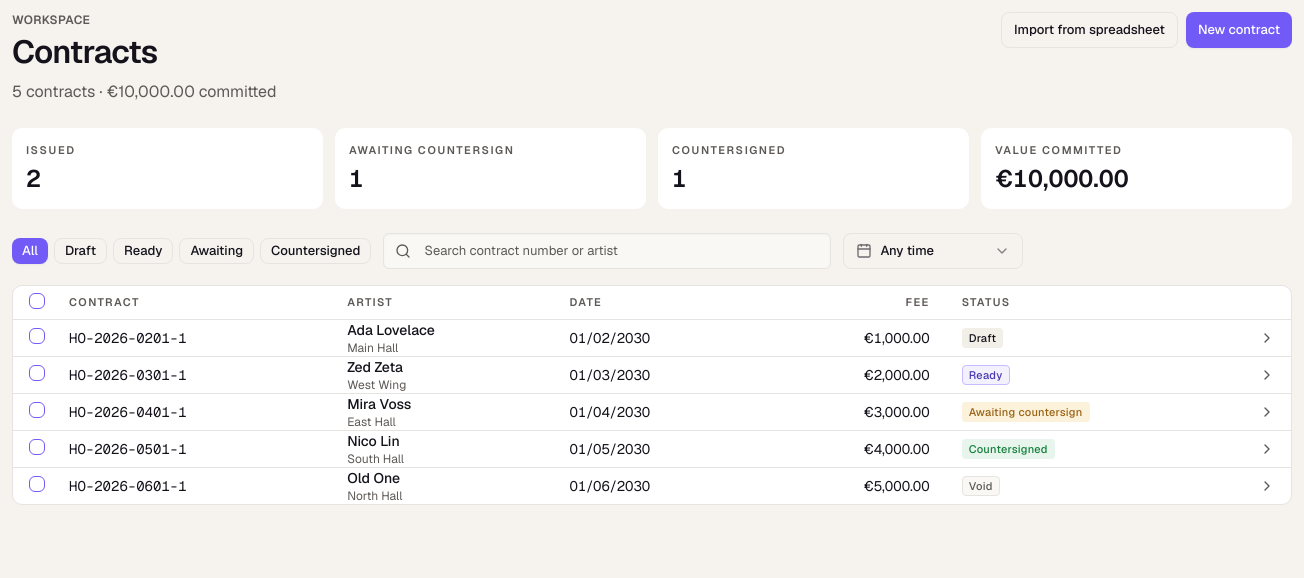
HireOrdersPage › sends only the still-visible, still-issuable ids when a filter change hides part of a prior selection
The width and height of the screenshot is (1304, 578).
Later steps or results of the test are not shown.
Expected: the text "HO-2026-0201-1" is shown, [69,329,187,347]
Click the checkbox named "select contract ho-2026-0201-1". click: (37, 336)
box: [29,328,45,344]
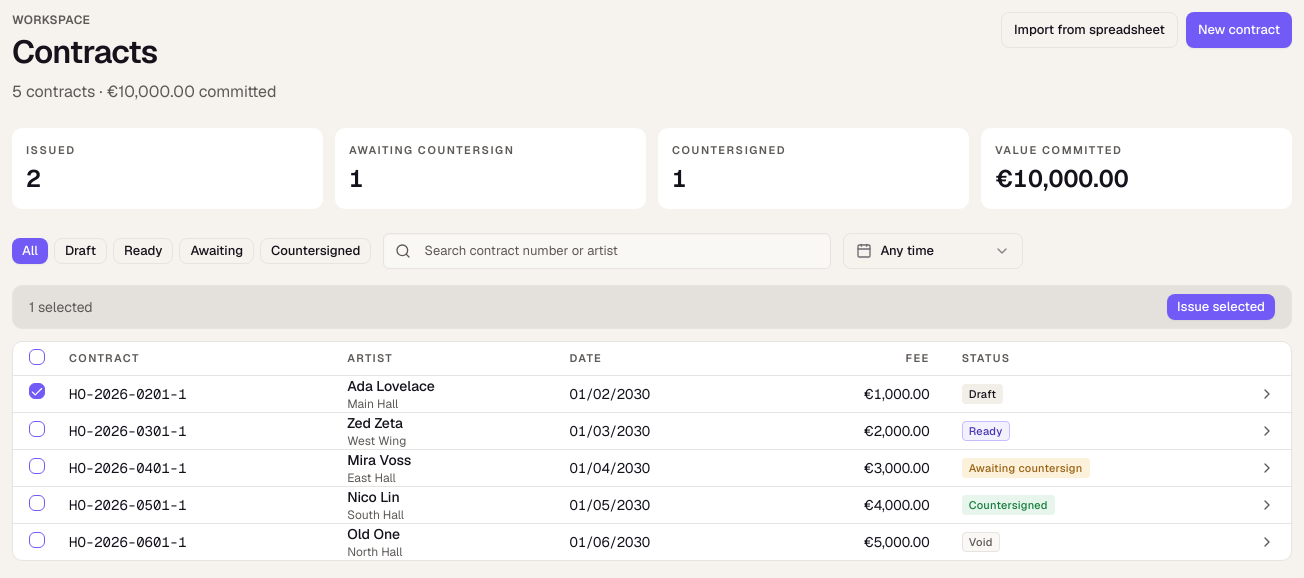
Click the checkbox named "select contract ho-2026-0301-1". click: (37, 429)
box: [29,421,45,437]
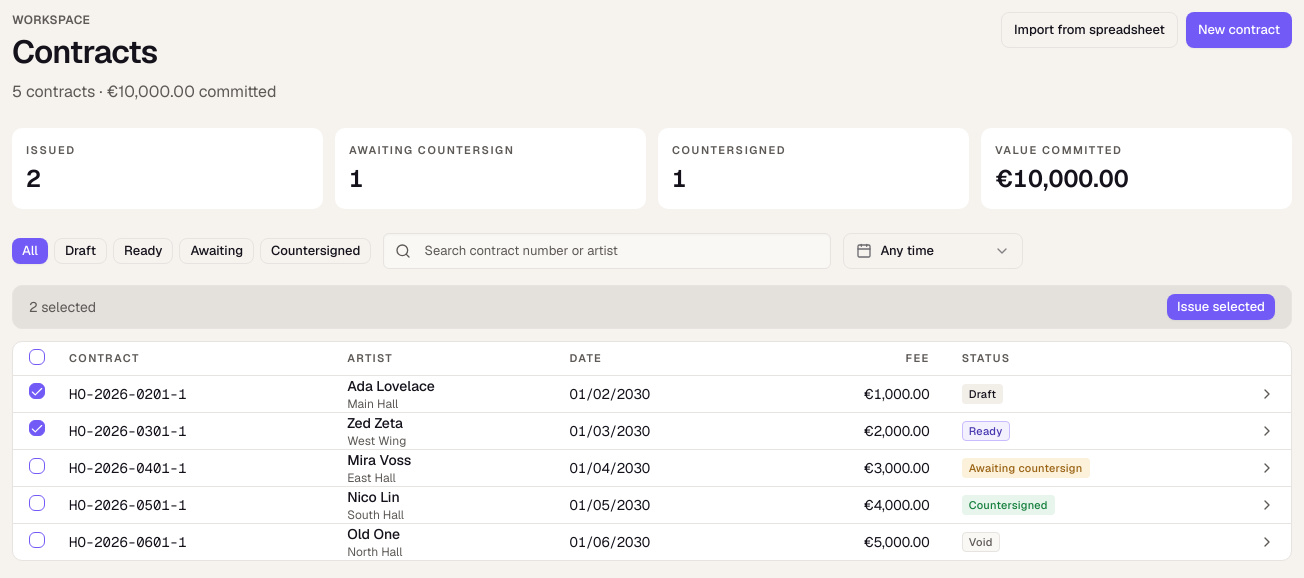
Result: the button "Issue selected" is enabled at [1167,294,1275,320]
Click the button "Draft". click: (80, 250)
box: [54,238,107,264]
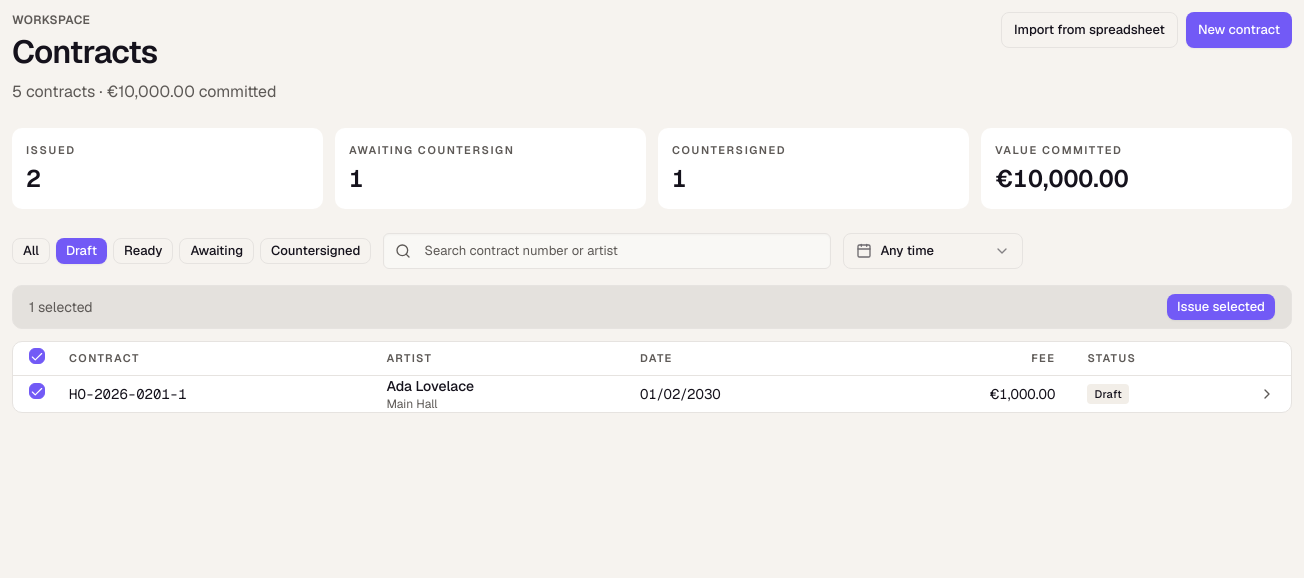
Expected: the text "HO-2026-0201-1" is shown, [69,385,187,403]
Result: the button "HO-2026-0301-1" is gone
